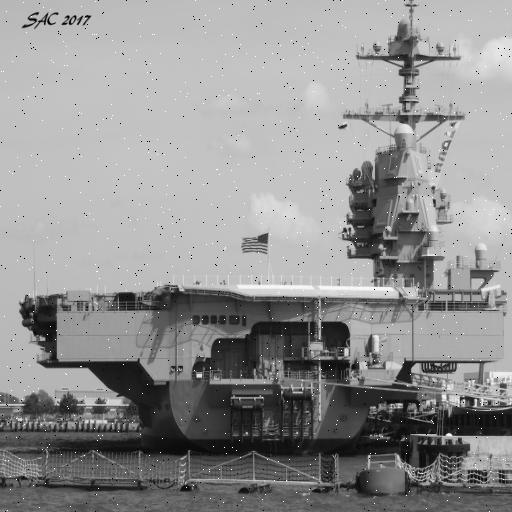Portanaves: (17, 1, 512, 455)
